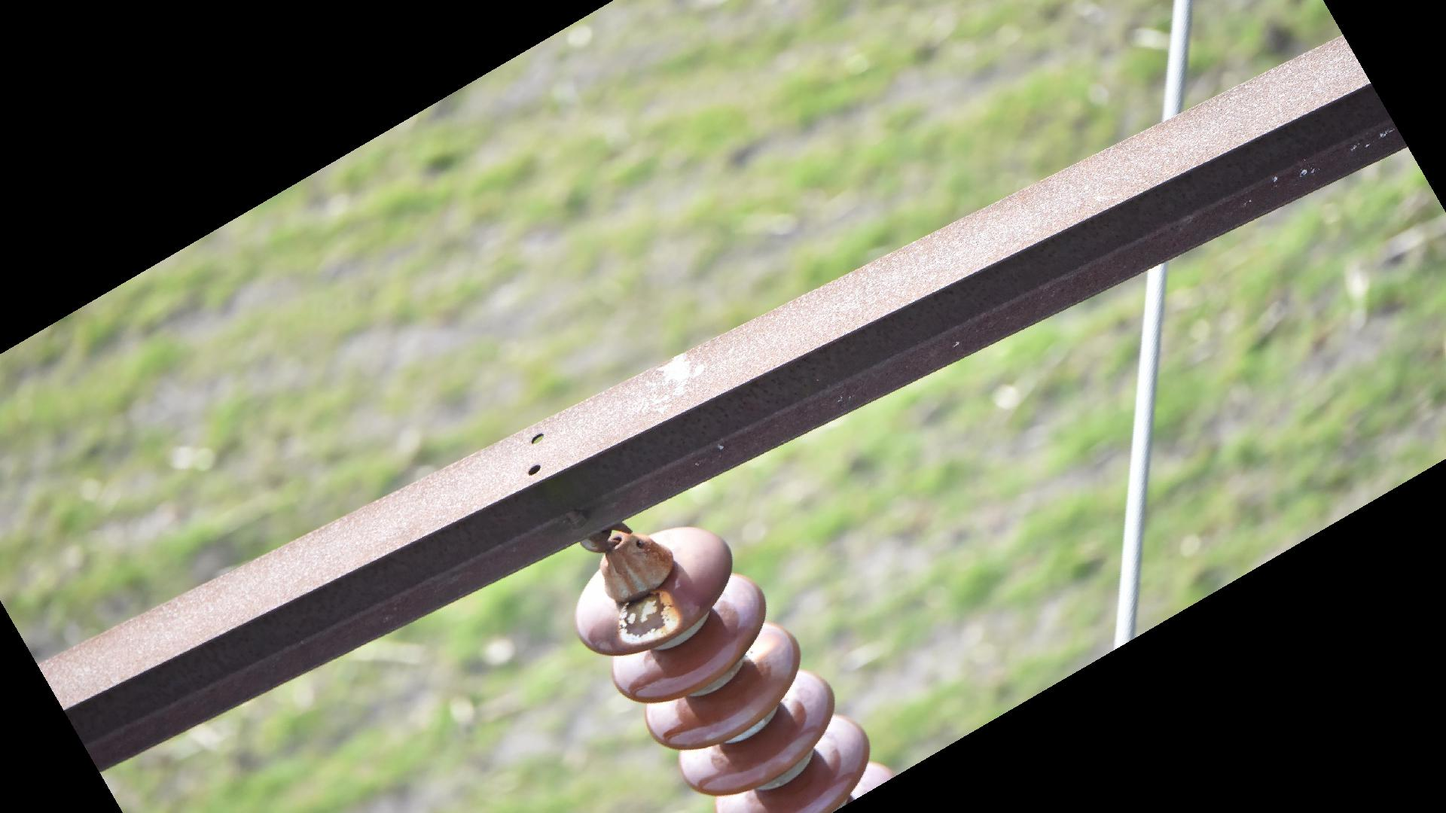insulator: (567, 517, 898, 813)
insulator_flashover: (614, 586, 683, 648)
